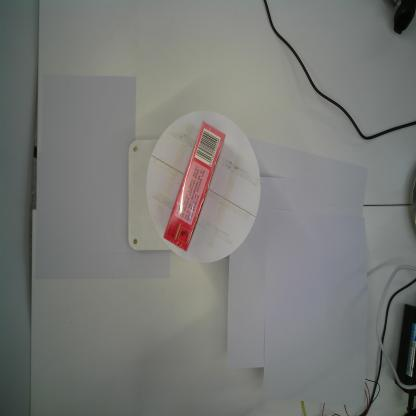Instant Drink: (163, 121, 226, 252)
